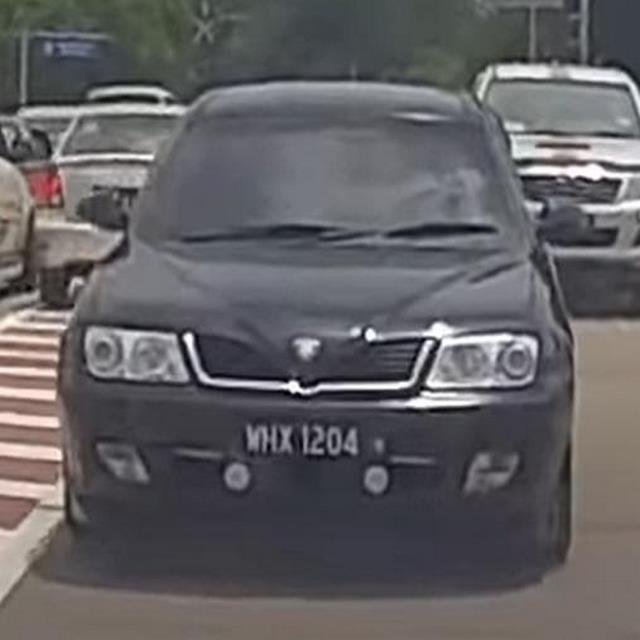License_Plate: (221, 416, 372, 466)
car: (51, 92, 591, 579)
